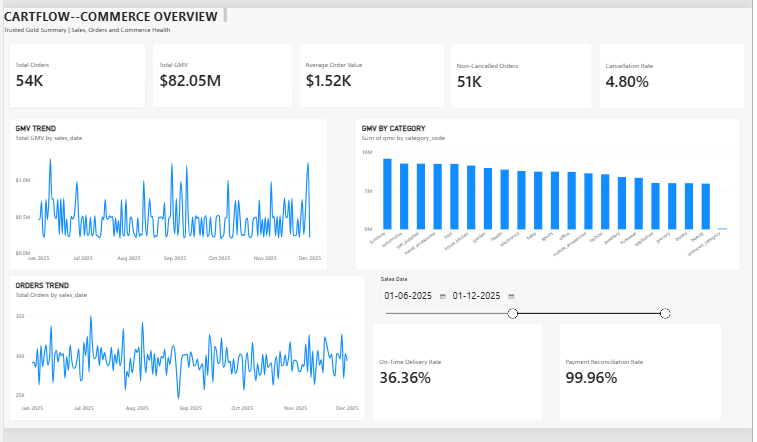

What the dashboard file says about the page in this screenshot:
{"tool":"powerbi","page":{"name":"Page 1","canvas":[1920,1080],"ordinal":0},"visuals":[{"type":"cardVisual","fields":{"Data":["agg_sales_daily.Total Orders"]},"box":[14,90,350,166],"z":0},{"type":"cardVisual","fields":{"Data":["agg_sales_daily.Total GMV"]},"box":[382,90,358,166],"z":1000},{"type":"cardVisual","fields":{"Data":["agg_sales_daily.Average Order Value"]},"box":[758,90,374,166],"z":2000},{"type":"cardVisual","fields":{"Data":["agg_sales_daily.Non-Cancelled Orders"]},"box":[1146,90,364,168],"z":3000},{"type":"cardVisual","fields":{"Data":["agg_sales_daily.Cancellation Rate"]},"box":[1526,90,374,168],"z":4000},{"type":"textbox","box":[0,0,572,46],"z":5000},{"type":"textbox","box":[0,46,496,48],"z":6000},{"type":"lineChart","title":"GMV TREND","fields":{"Category":["agg_sales_daily.sales_date"],"Y":["agg_sales_daily.Total GMV"]},"box":[14,282,818,392],"z":7000},{"type":"lineChart","title":"ORDERS TREND","fields":{"Category":["agg_sales_daily.sales_date"],"Y":["agg_sales_daily.Total Orders"]},"box":[14,688,914,372],"z":8000},{"type":"clusteredColumnChart","title":"GMV BY CATEGORY","fields":{"Category":["agg_category_sales.category_code"],"Y":["Sum(agg_category_sales.gmv)"]},"box":[854,282,988,392],"z":9000},{"type":"cardVisual","fields":{"Data":["agg_delivery_delay.On-Time Delivery Rate"]},"box":[960,740,436,252],"z":10000},{"type":"cardVisual","fields":{"Data":["Sum(agg_payment_review.payment_reconciliation_rate)"]},"box":[1424,740,418,252],"z":11000}]}

Visuals, with their boxes in screenshot pixels (x1, y1, x2, y2):
cardVisual - agg_sales_daily.Total Orders: (66, 10, 198, 72)
cardVisual - agg_sales_daily.Total GMV: (204, 10, 339, 72)
cardVisual - agg_sales_daily.Average Order Value: (345, 10, 486, 72)
cardVisual - agg_sales_daily.Non-Cancelled Orders: (491, 10, 627, 73)
cardVisual - agg_sales_daily.Cancellation Rate: (633, 10, 756, 73)
textbox: (61, 0, 247, 12)
"GMV TREND" lineChart: (66, 82, 373, 229)
"ORDERS TREND" lineChart: (66, 234, 409, 374)
"GMV BY CATEGORY" clusteredColumnChart: (381, 82, 752, 229)
cardVisual - agg_delivery_delay.On-Time Delivery Rate: (421, 254, 585, 348)
cardVisual - Sum(agg_payment_review.payment_reconciliation_rate): (595, 254, 752, 348)
